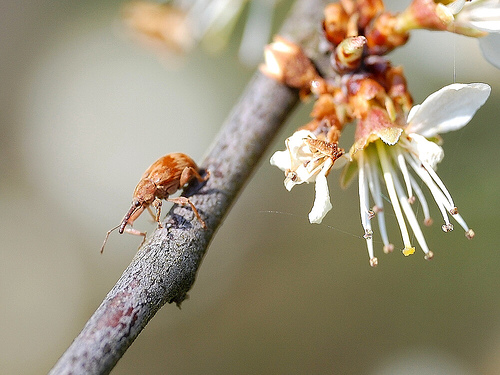dolgonosik: (100, 148, 219, 258)
